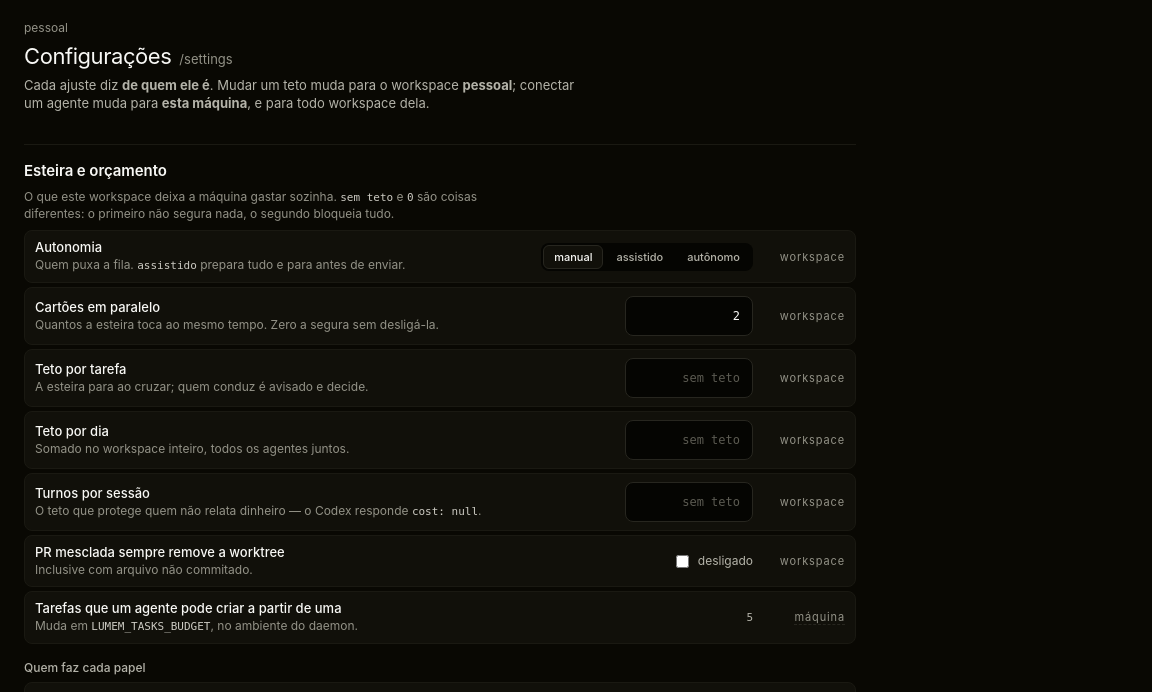
os três tetos, que nenhuma tela escrevia › negativo não chega ao daemon, e a linha diz por quê
Type "-4" into the field named "teto por dia" at (689, 440), box [625,420,753,460]
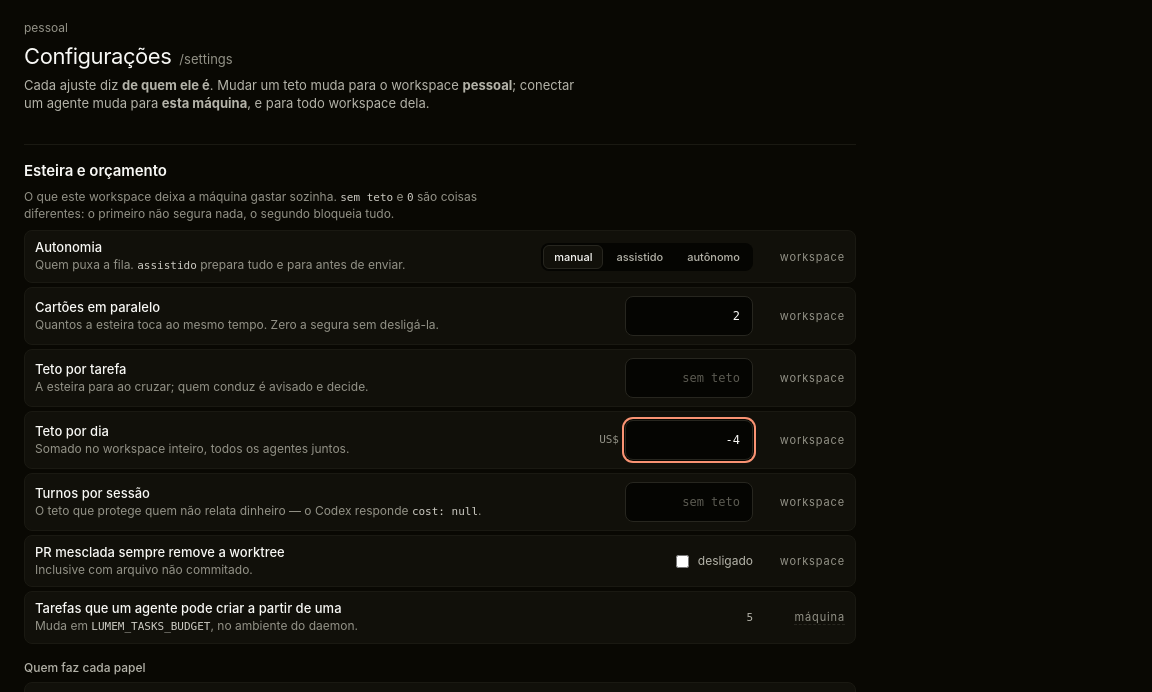
Press Tab
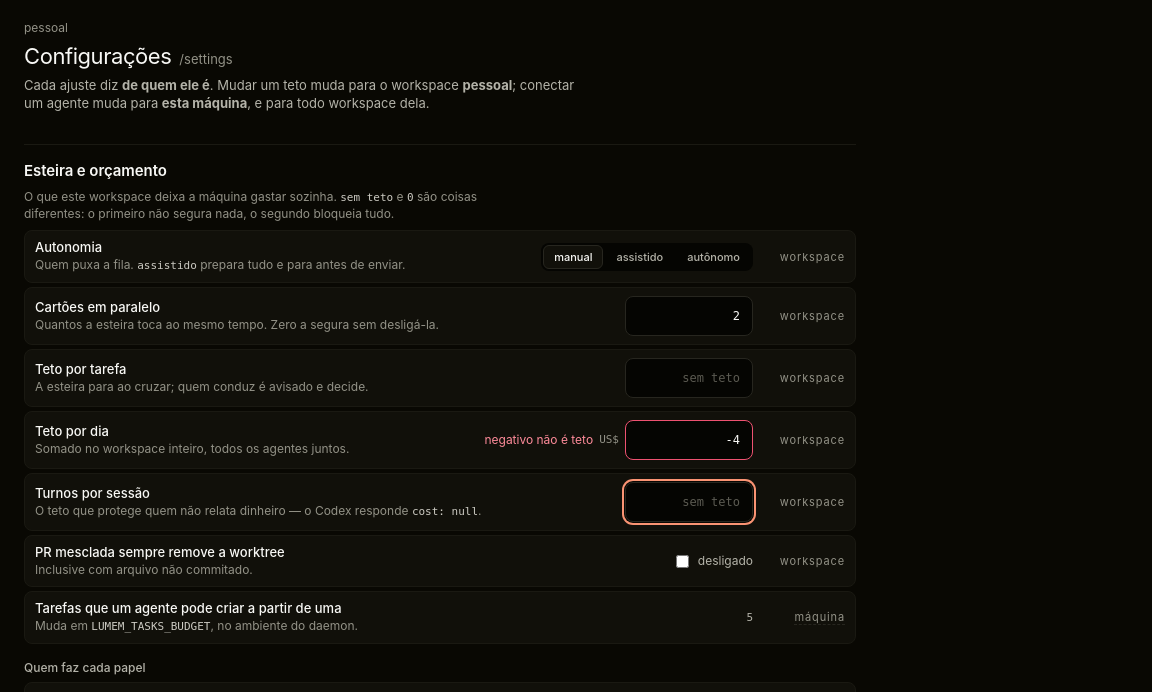
Now the message reads "negativo não é teto", box [484,432,593,447]
